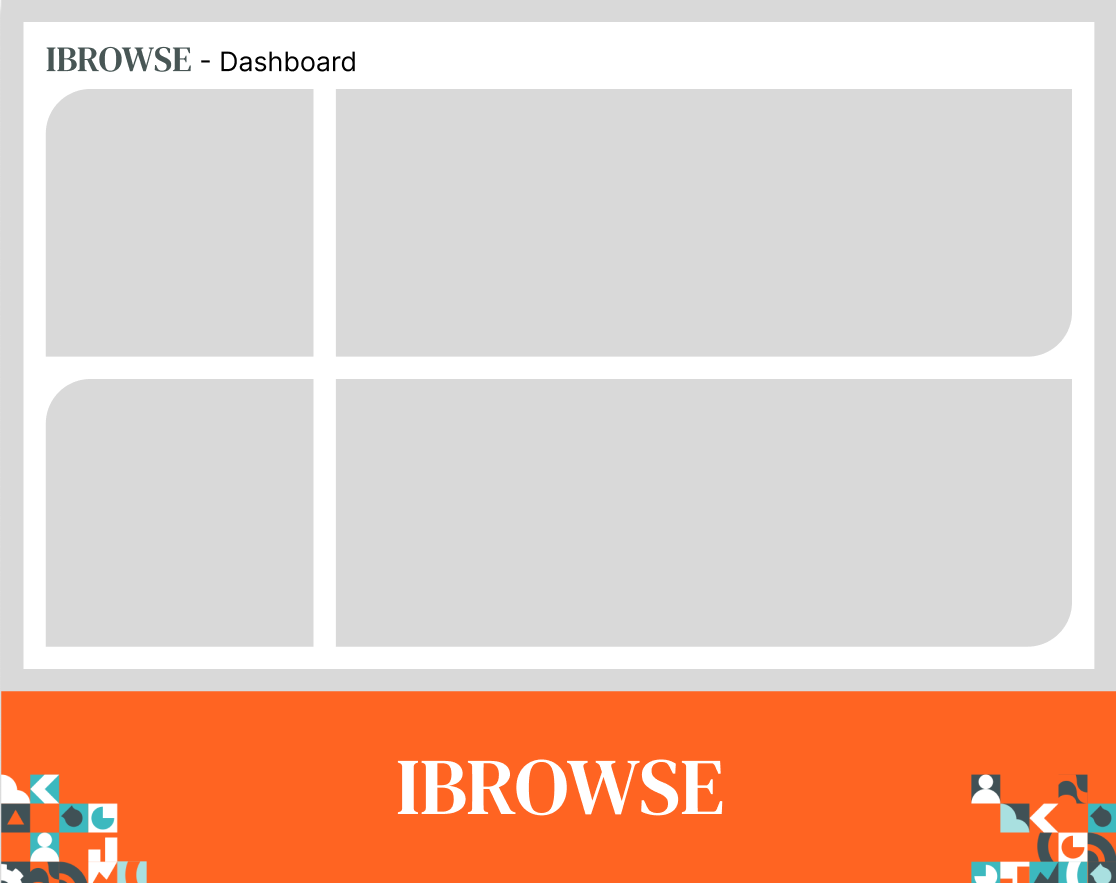

The dashboard page shown, as its layout file describes it:
{"tool":"powerbi","page":{"name":"DASBOARD","canvas":[1280,720],"ordinal":0},"visuals":[{"type":"image","box":[131.9,0,870,720.2],"z":0},{"type":"clusteredColumnChart","fields":{"Y":["Avg(FATO_CASE.NOTAS)"],"Category":["FATO_CASE.MUNICIPIO"]},"box":[388.6,85.3,567.5,218],"z":1000},{"type":"card","fields":{"Values":["Avg(FATO_CASE.NOTAS)"]},"box":[174.8,106.9,199.5,117.2],"z":2000},{"type":"textbox","box":[1001.4,627.1,278.6,92.5],"z":3000},{"type":"card","fields":{"Values":["FATO.F_MAX-IDHM"]},"box":[174.8,320.8,199.5,116.2],"z":4000},{"type":"textbox","box":[175.8,204.6,197.4,92.5],"z":5000},{"type":"textbox","box":[175.8,436.9,197.4,78.1],"z":6000},{"type":"clusteredColumnChart","fields":{"Category":["DimCenso.MUNICIPIO"],"Y":["Max(DimCenso.IDHM)"]},"box":[388.6,311.4,568.1,218.7],"z":7000}]}

Visuals, with their boxes on the page's 1280x720 design canvas (x1, y1, x2, y2). These are canvas units, not pixel positions in the 1116x883 screenshot, which may show the page scaled, cropped or inside an application window:
image: crop(132, 0, 1002, 720)
clusteredColumnChart - Avg(FATO_CASE.NOTAS) x FATO_CASE.MUNICIPIO: crop(389, 85, 956, 303)
card - Avg(FATO_CASE.NOTAS): crop(175, 107, 374, 224)
textbox: crop(1001, 627, 1280, 720)
card - FATO.F_MAX-IDHM: crop(175, 321, 374, 437)
textbox: crop(176, 205, 373, 297)
textbox: crop(176, 437, 373, 515)
clusteredColumnChart - DimCenso.MUNICIPIO x Max(DimCenso.IDHM): crop(389, 311, 957, 530)
